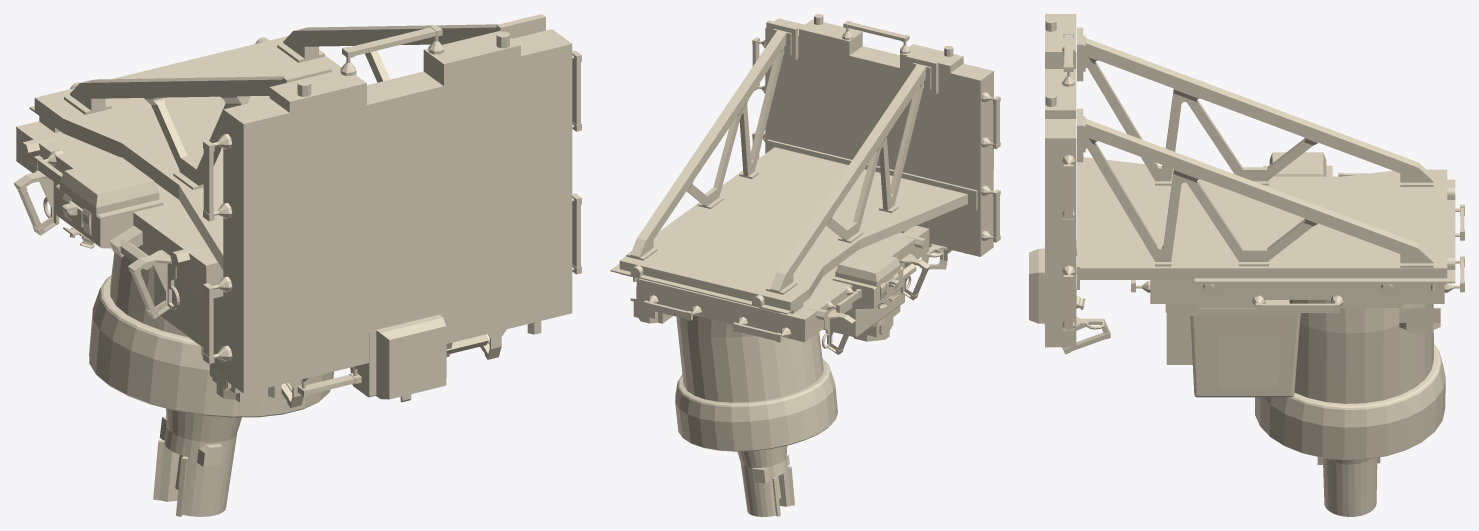
Rendered from sage3.glb.
3 views of the same model, side by side, from view 1: azimuth 30°, elevation 25°; view 2: azimuth 150°, elevation 25°; view 3: azimuth 270°, elevation 25° (orthographic). The views are drawn at different scales.
Parts seen in each view (by area): view 1: SAGE_III_IP_Details; view 2: SAGE_III_IP_Details; view 3: SAGE_III_IP_Details.
Part boxes in pixels (<box>): SAGE_III_IP_Details: <box>14,14,581,516</box>; SAGE_III_IP_Details: <box>610,14,1000,516</box>; SAGE_III_IP_Details: <box>1029,14,1464,516</box>.
Bounding box in the file's own units: 0.1363 × 0.2088 × 0.178.
